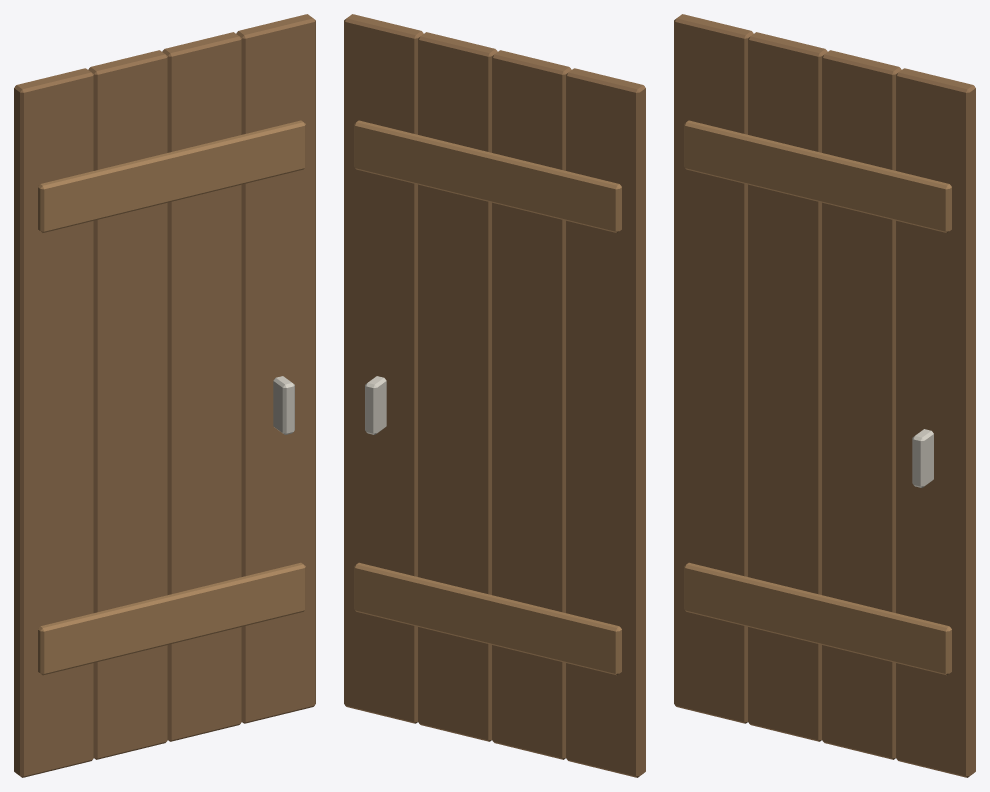
File: SM_Door_Leaf.fbx
The picture shows the model from 3 angles, left to right: view 1: azimuth 30°, elevation 25°; view 2: azimuth 150°, elevation 25°; view 3: azimuth 330°, elevation 25°; orthographic projection.
Parts seen in each view (by area): view 1: SM_Door_Leaf; view 2: SM_Door_Leaf; view 3: SM_Door_Leaf.
Boxes of the visible parts, bbox=[...] form: SM_Door_Leaf: bbox=[14, 14, 315, 777]; SM_Door_Leaf: bbox=[344, 14, 645, 777]; SM_Door_Leaf: bbox=[674, 14, 975, 777].
Size of the model in its own units: 0.98 by 2.18 by 0.19.
